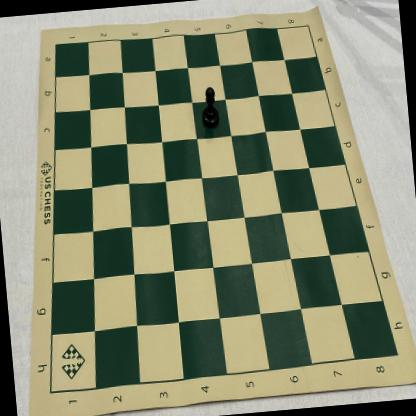pawn: (199, 86, 221, 129)
